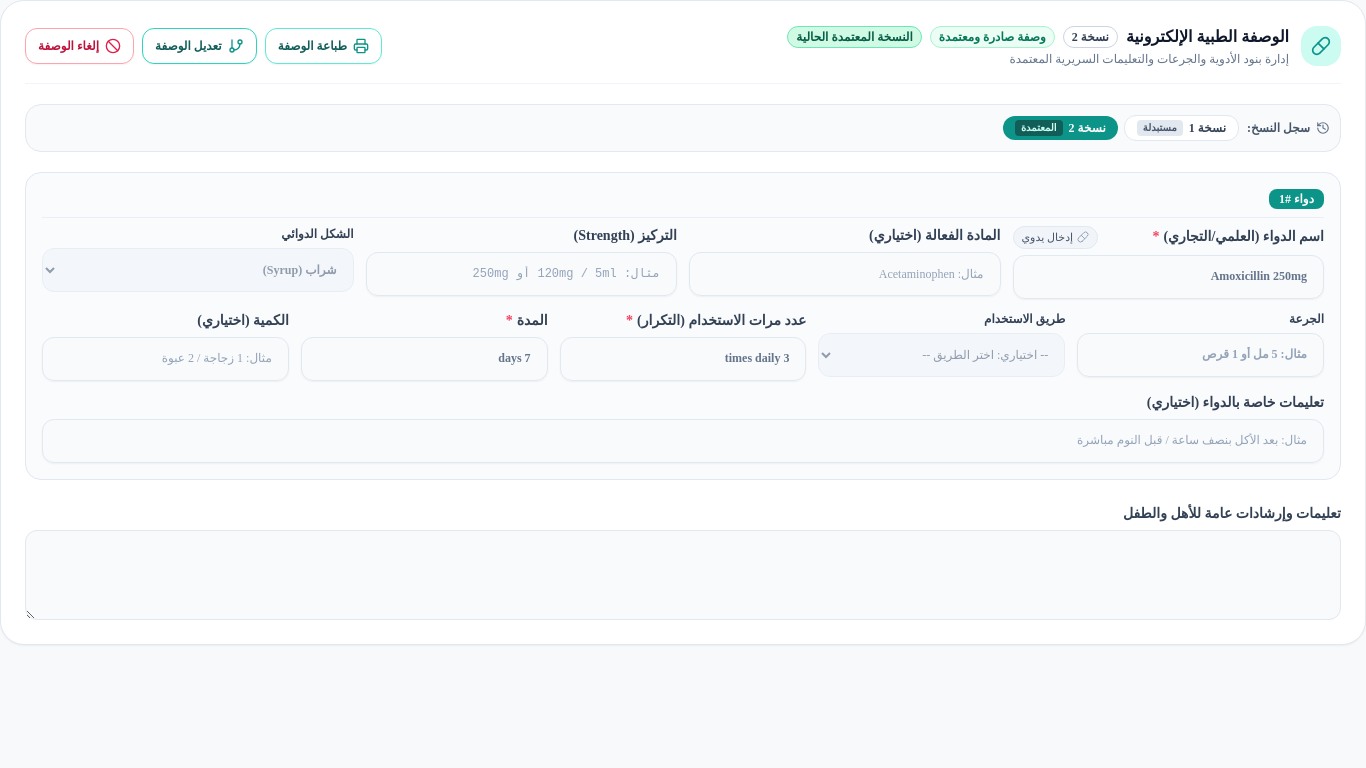
Prescription Revision & Amendment Workflow (نظام مراجعة وتعديل الوصفات الصادرة) › 4. Doctor Workstation UI (ElectronicPrescriptionSection) › revision pills allow switching between revisions and shows superseded warning banner
Expected: the text with test id "rx-revision-badge" reads "نسخة 2", [1072,30,1109,44]
Expected: the text "النسخة المعتمدة الحالية" is shown, [787,26,922,48]
Click the button with test id "rx-revision-tab-1" at (1181, 128), box [1124,115,1239,141]
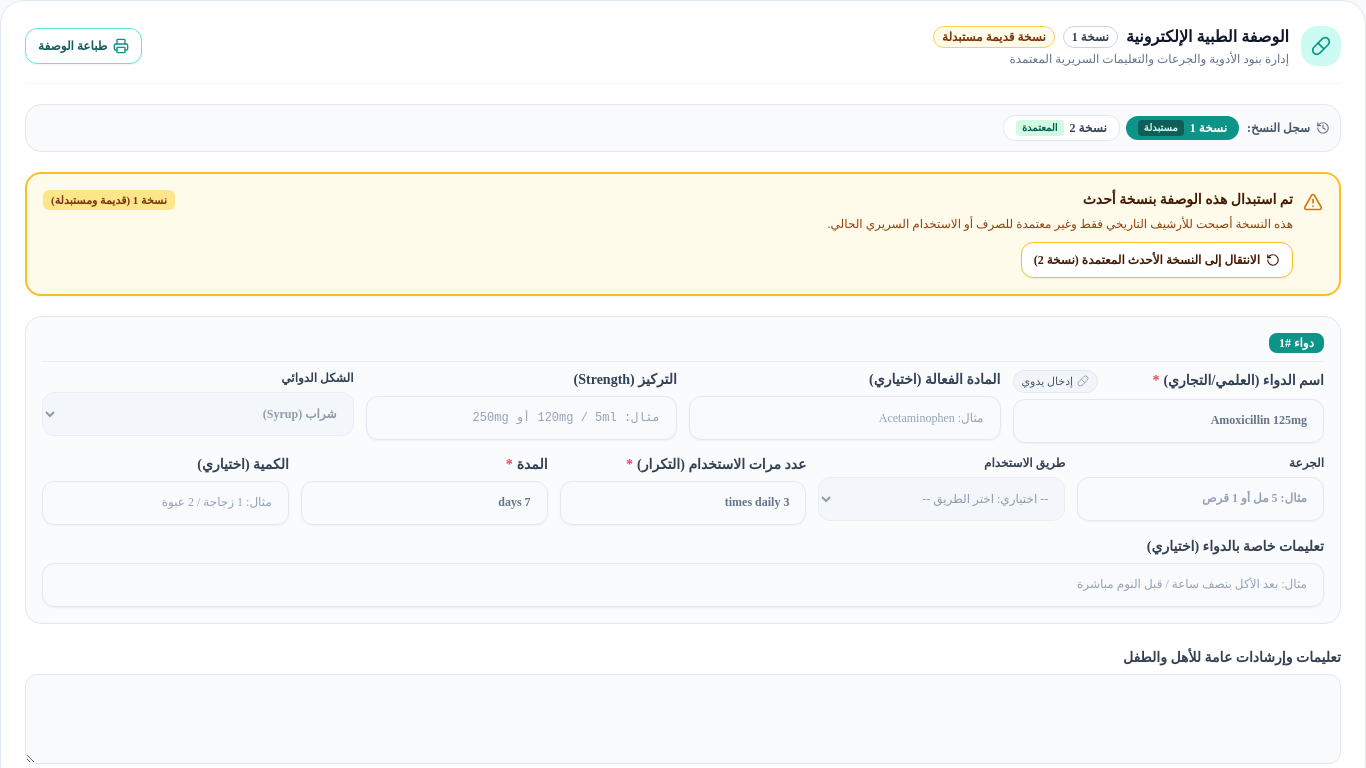
Expected: the element with test id "rx-superseded-banner" is shown, [25,172,1341,296]
Expected: the text "تم استبدال هذه الوصفة بنسخة أحدث" is shown, [1083,190,1293,210]
# Click button inside banner to switch back to latest revision
Click the button with test id "switch-to-latest-rx-btn" at (1157, 260), box [1021,242,1293,278]
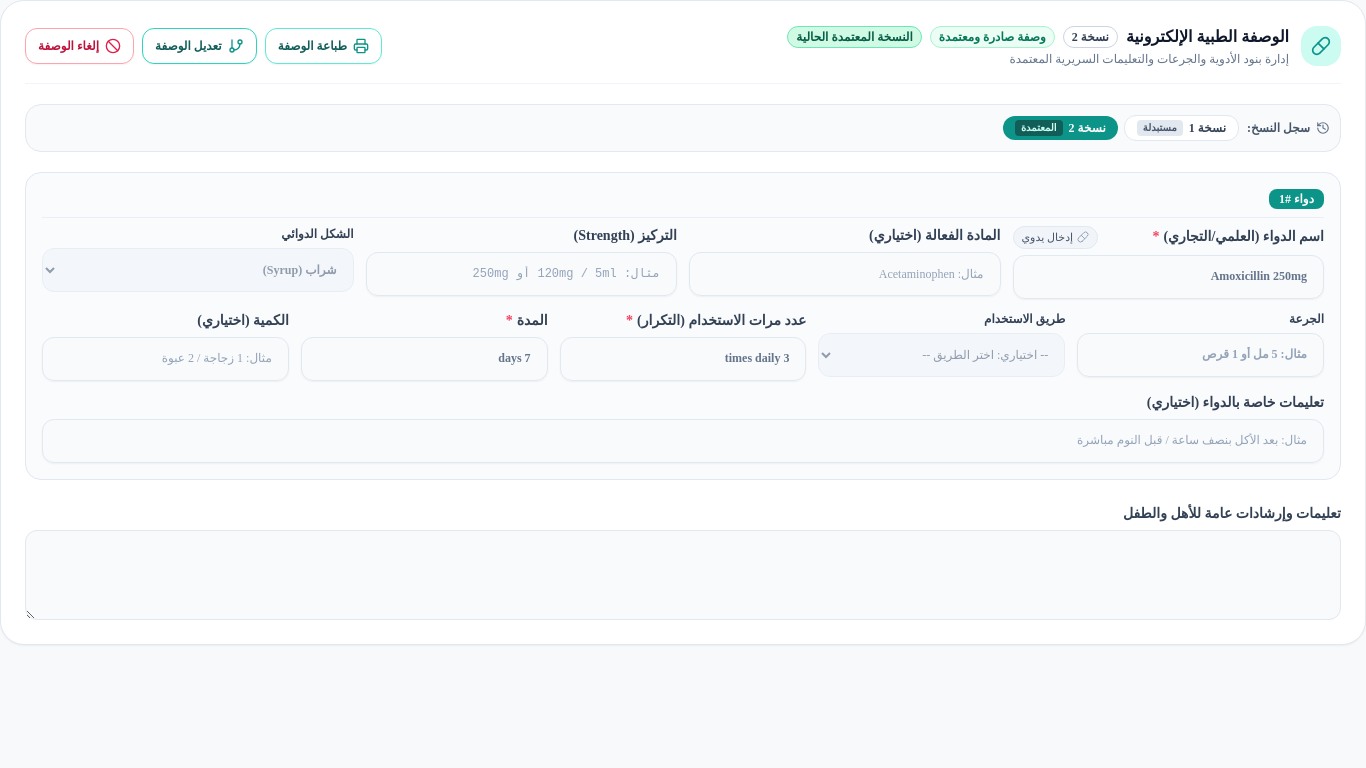
Expected: the text with test id "rx-revision-badge" reads "نسخة 2", [1072,30,1109,44]
Expected: the element with test id "rx-superseded-banner" is gone
